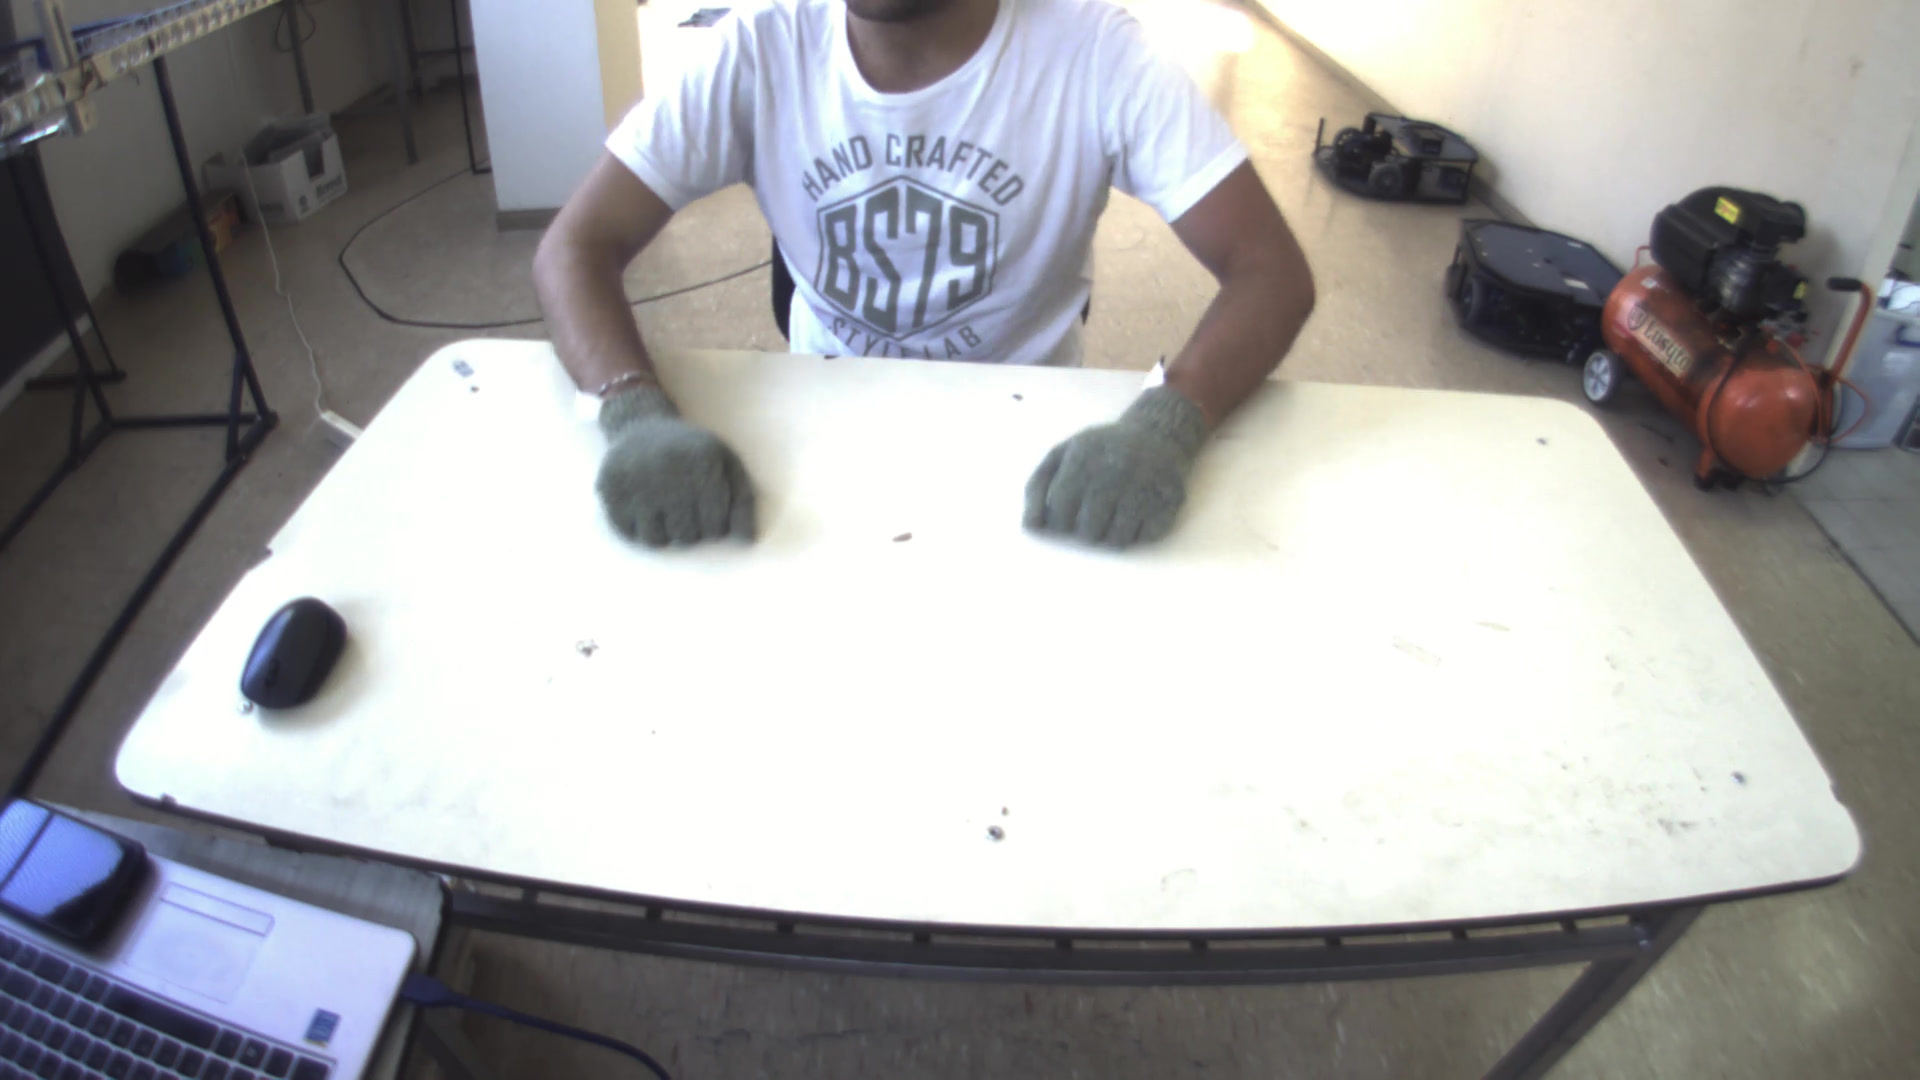hand: (1018, 377, 1218, 551), (582, 385, 750, 553)
